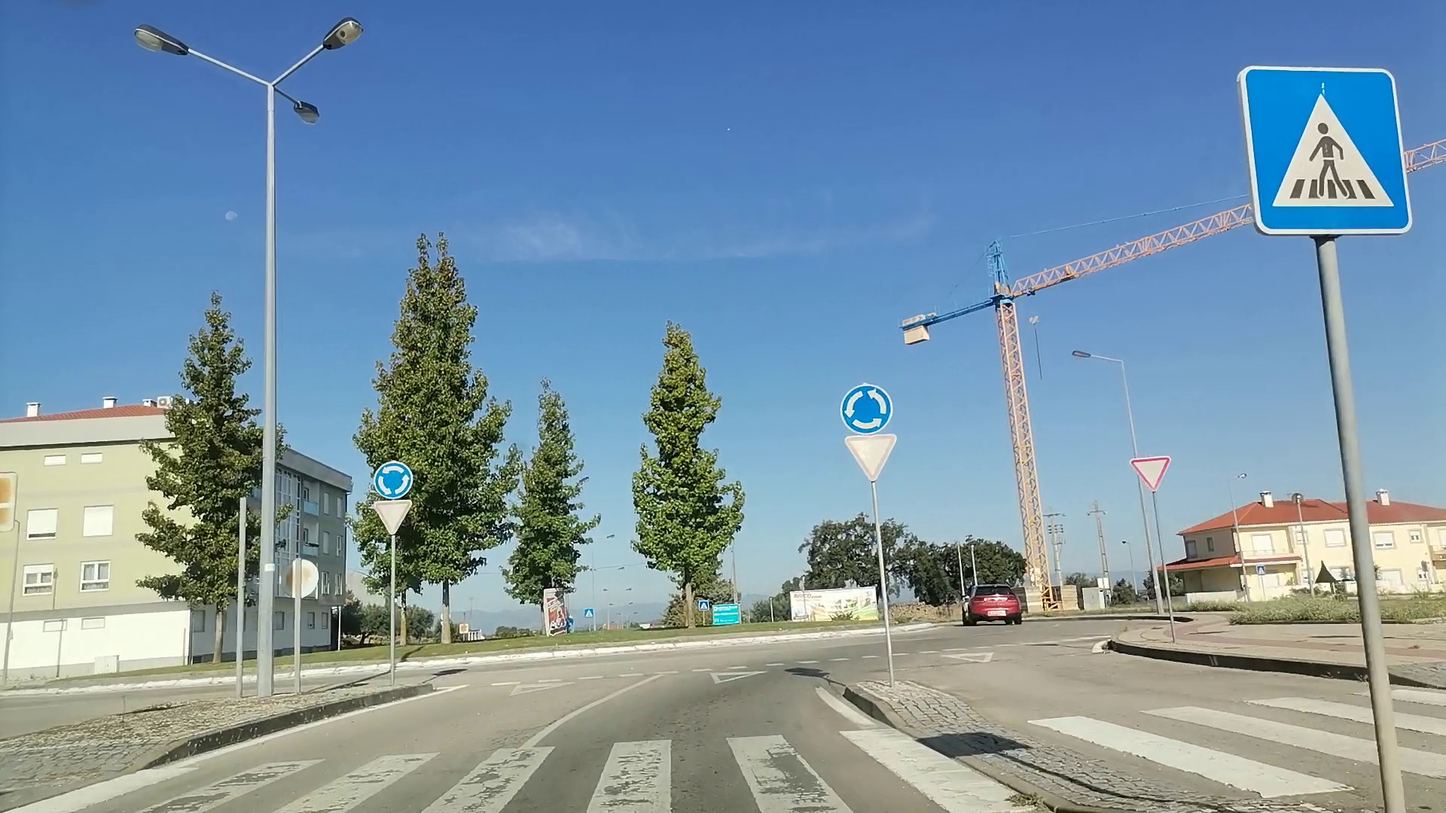Stairs: (147, 728, 1021, 813), (1023, 694, 1446, 810)
